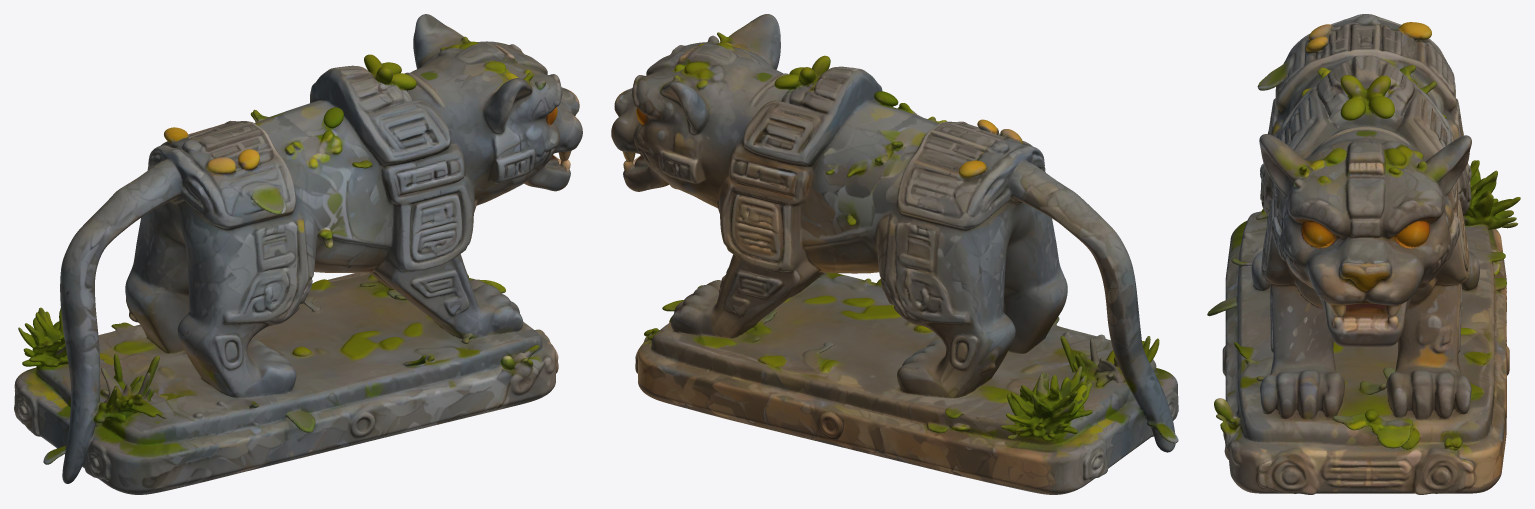
Rendered from jaguar-statue.glb.
The picture shows the model from 3 angles, left to right: view 1: azimuth 30°, elevation 25°; view 2: azimuth 150°, elevation 25°; view 3: azimuth 270°, elevation 25°; orthographic projection. The views are drawn at different scales.
Parts seen in each view (by area): view 1: tripo_node_1de31217-4429-4d9a-aa06-633002f6c17c; view 2: tripo_node_1de31217-4429-4d9a-aa06-633002f6c17c; view 3: tripo_node_1de31217-4429-4d9a-aa06-633002f6c17c.
Boxes of the visible parts, x1,y1,x2,y2 form: tripo_node_1de31217-4429-4d9a-aa06-633002f6c17c: (14, 14, 582, 494); tripo_node_1de31217-4429-4d9a-aa06-633002f6c17c: (611, 14, 1178, 494); tripo_node_1de31217-4429-4d9a-aa06-633002f6c17c: (1207, 14, 1520, 494).
Bounding box in the file's own units: 1 × 0.5704 × 0.4524.
Materials: 1 (1 with a texture image).
